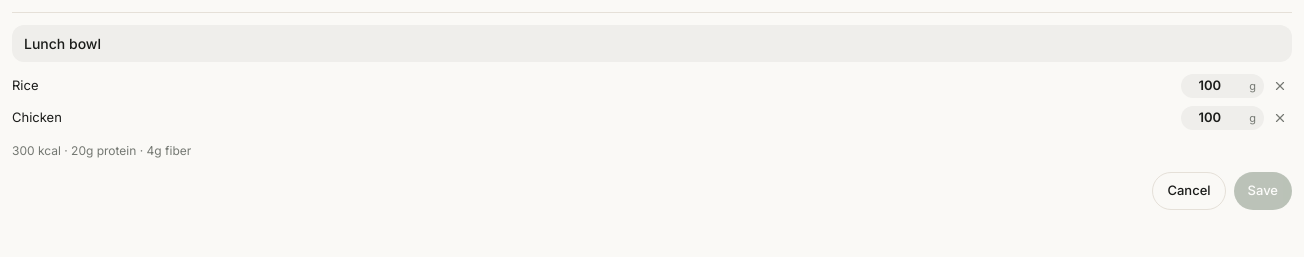
Scenario: MyMealEditor › reloads from current on meal_changed
Replace the text in the number field named "Grams of Rice" with "5" at (1217, 86), box [1189,76,1245,96]
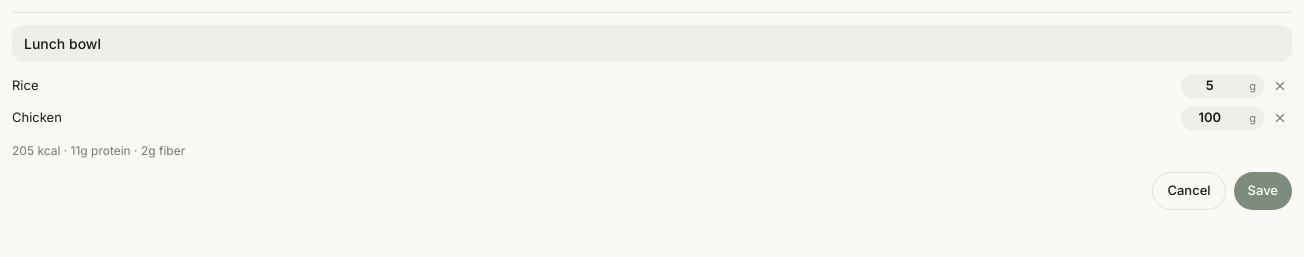
Click the button "Save" at (1263, 191), box [1234,172,1292,210]
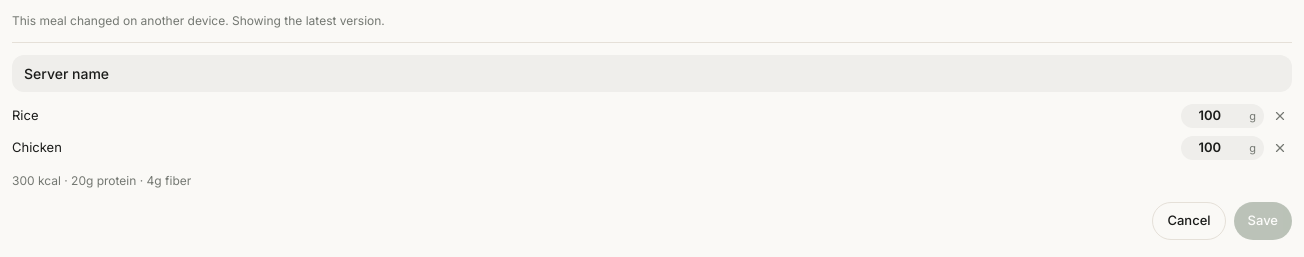
Now the text "This meal changed on another device. Showing the latest version." is shown, box [12,13,385,28]
Now the field named "Meal name" holds "Server name", box [12,55,1292,92]
